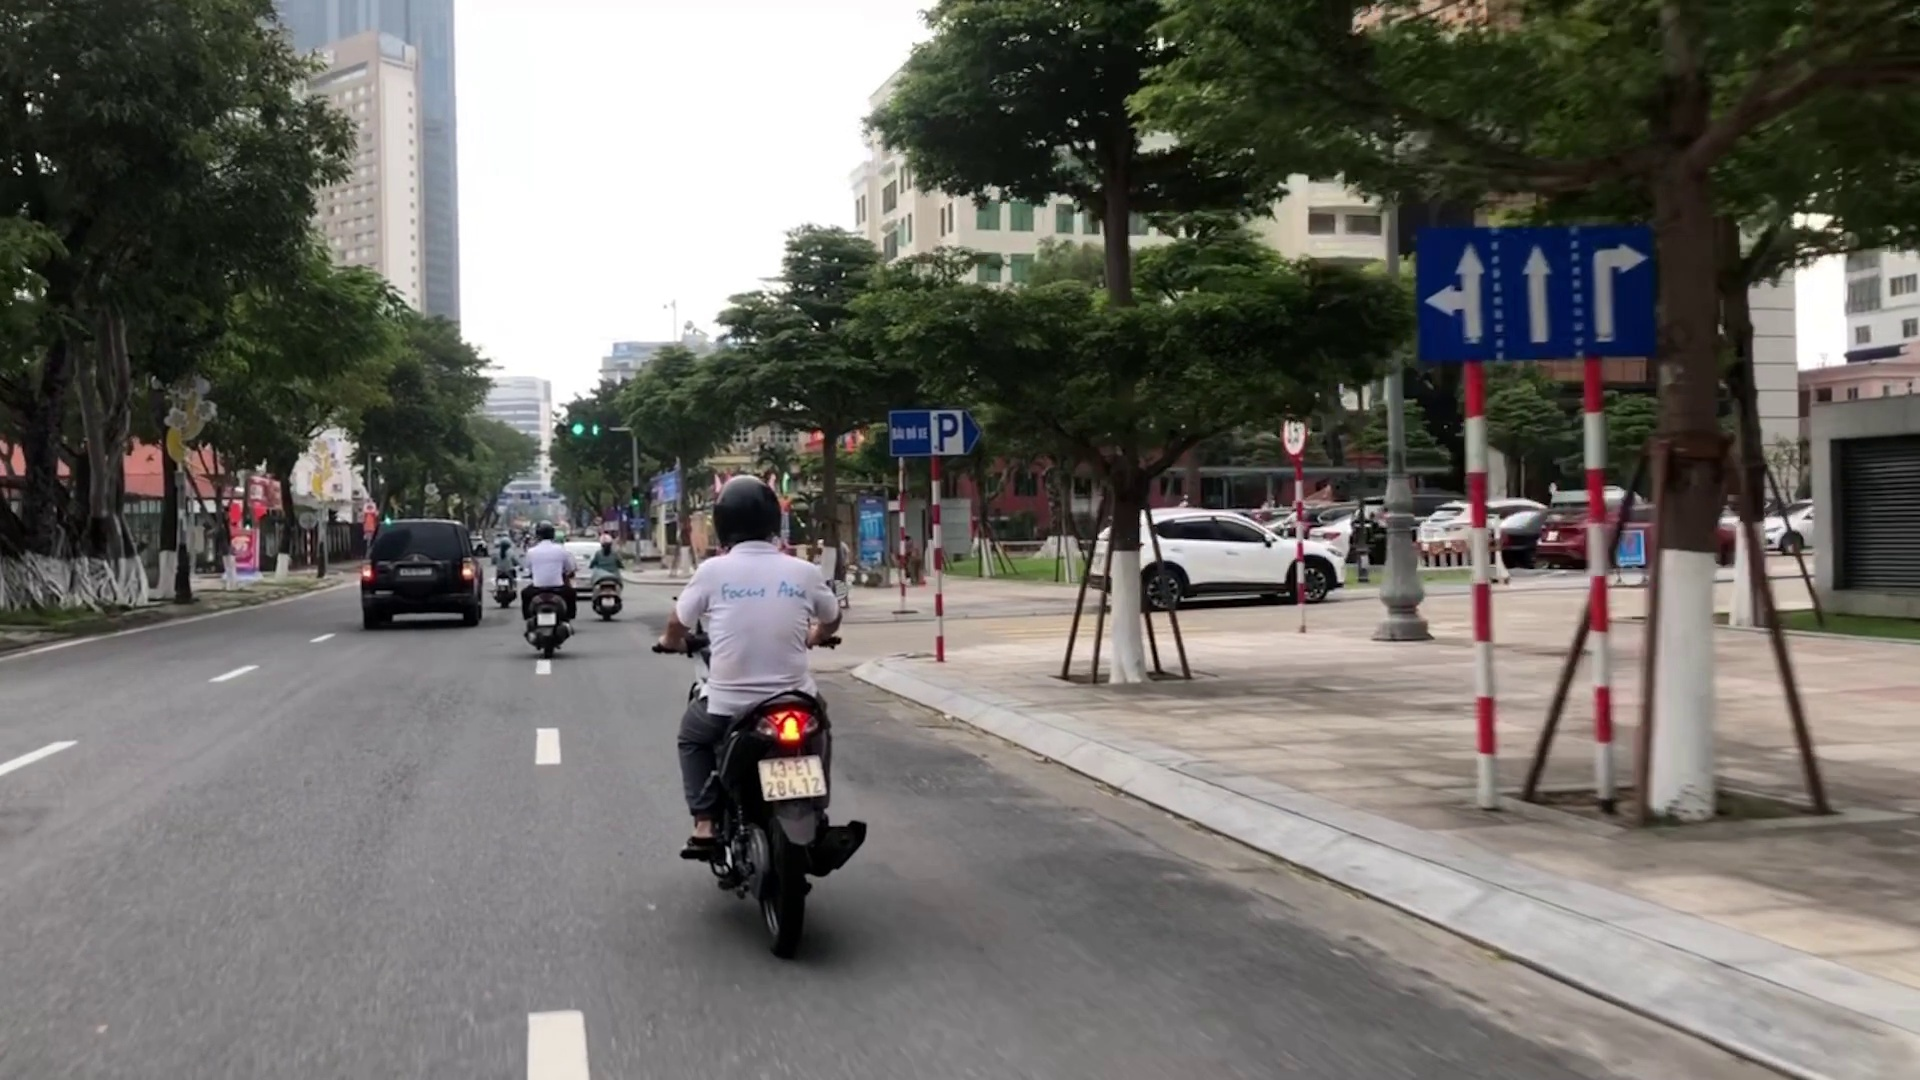Bien khac: (1410, 222, 1664, 357), (887, 409, 978, 456)
